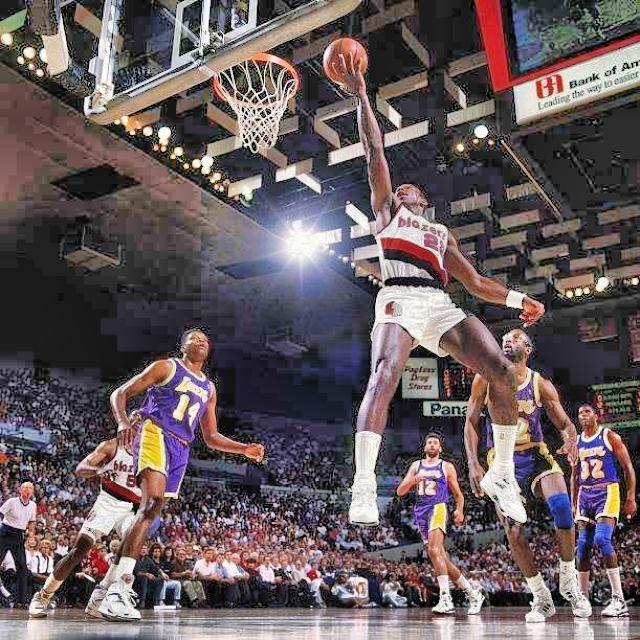rim: (210, 54, 296, 150)
